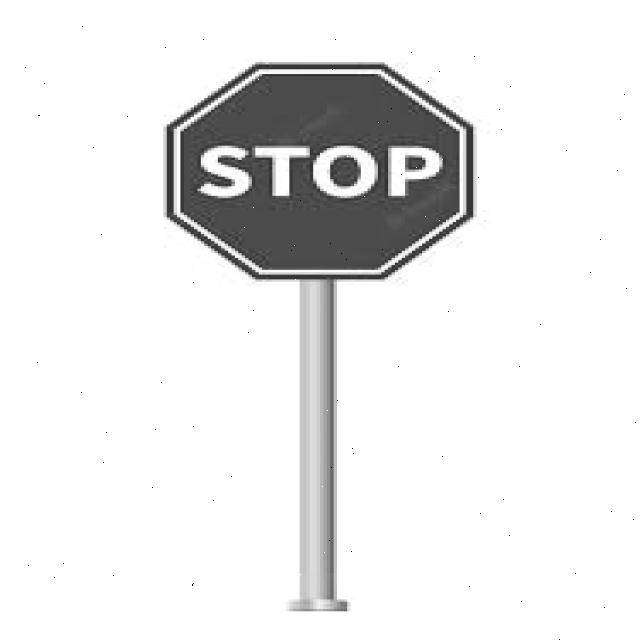stop sign: (167, 66, 476, 278)
